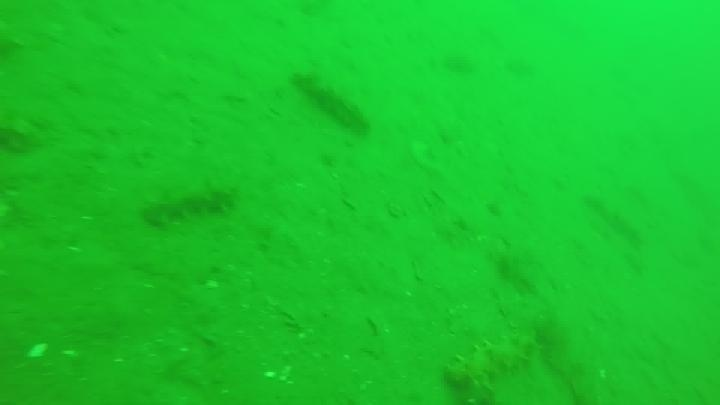holothurian: (441, 331, 542, 398), (290, 68, 373, 137), (139, 179, 239, 230)
